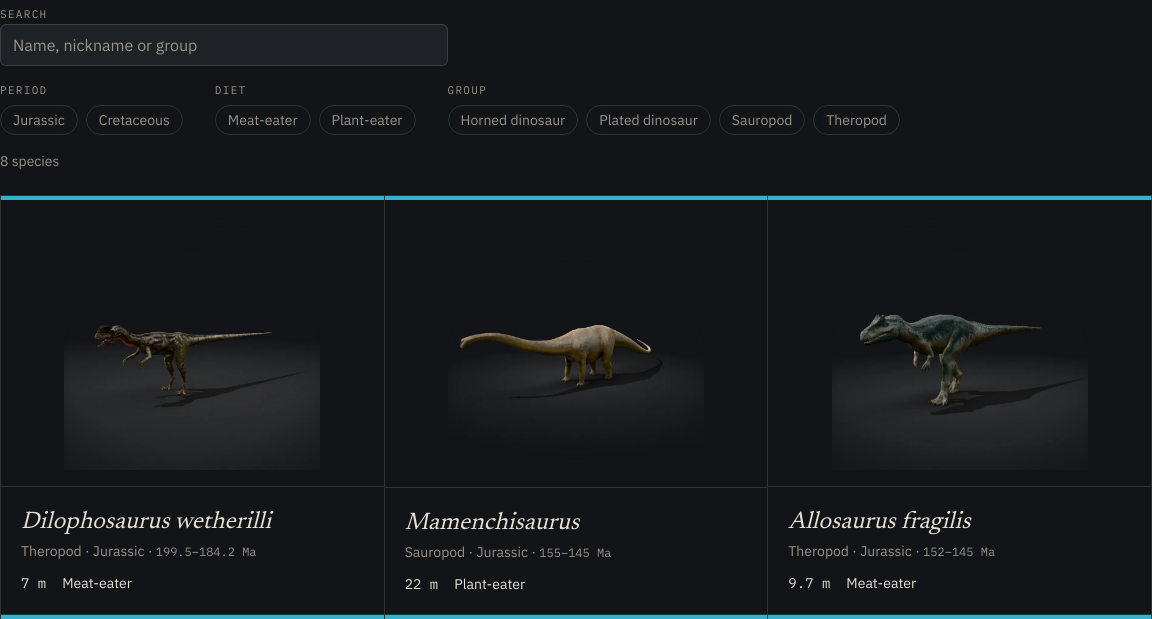
Test: SpeciesBrowser › searches names and shows a way out when nothing matches
Type "triceratops" into the search field at coordinates (224, 45), box x1=0 y1=24 x2=448 y2=66
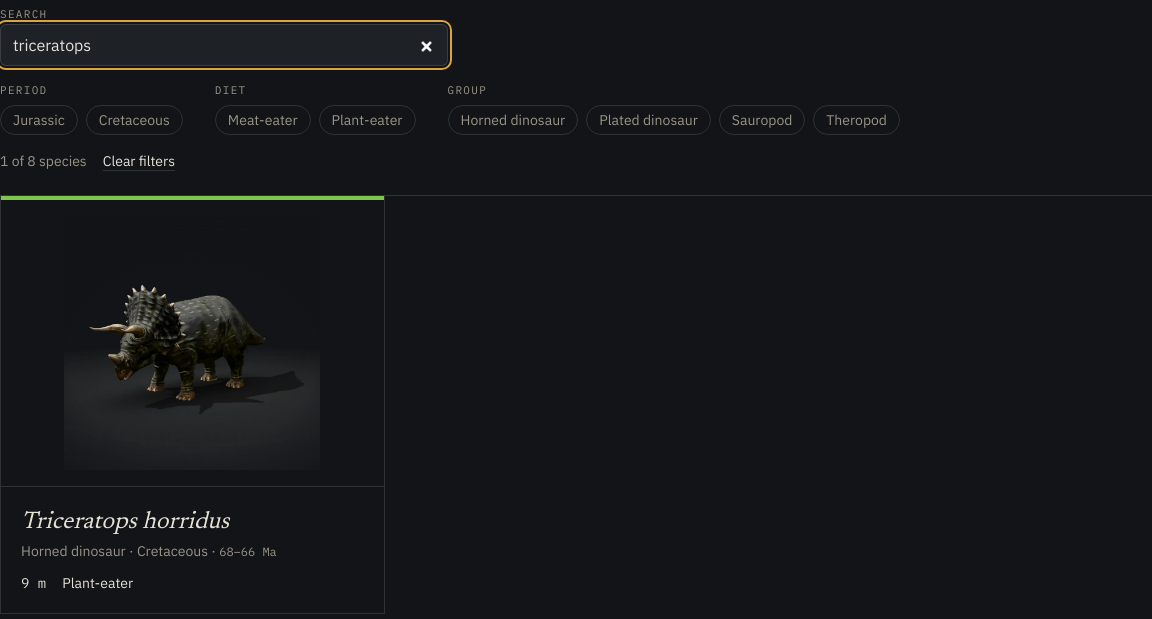
Now the number of links is 1, box x1=1 y1=196 x2=384 y2=614
Replace the text in the search field with "velociraptor" at coordinates (224, 45), box x1=0 y1=24 x2=448 y2=66
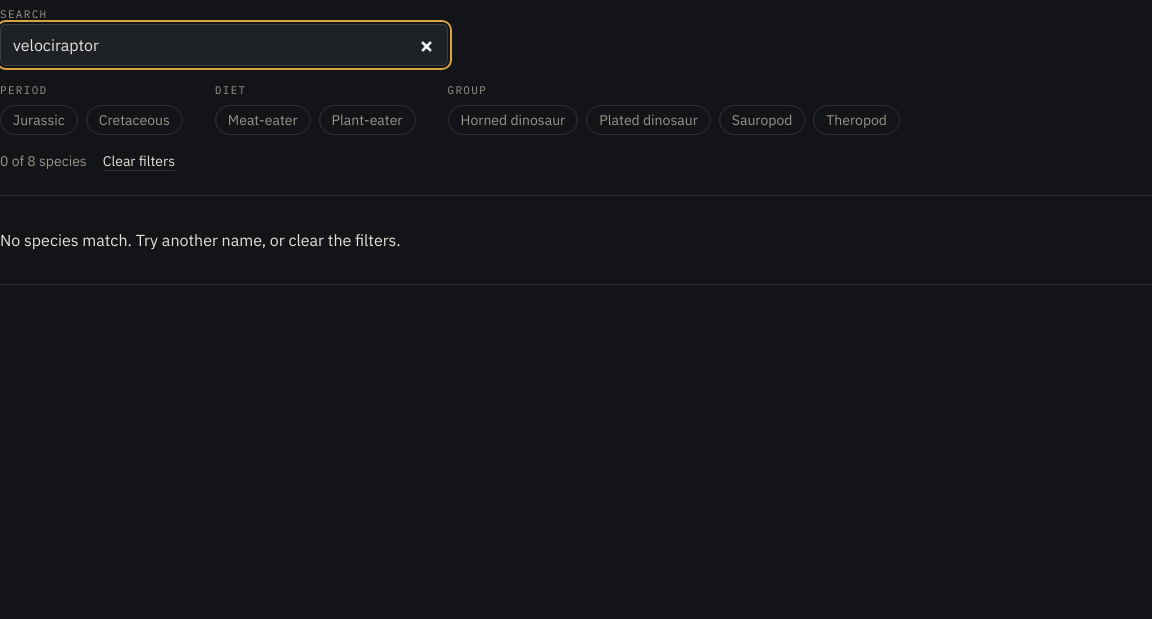
Now the text "No species match. Try another name, or clear the filters." is shown, box x1=0 y1=194 x2=1151 y2=284
Click the button "Clear filters" at coordinates (139, 160), box x1=103 y1=150 x2=175 y2=170
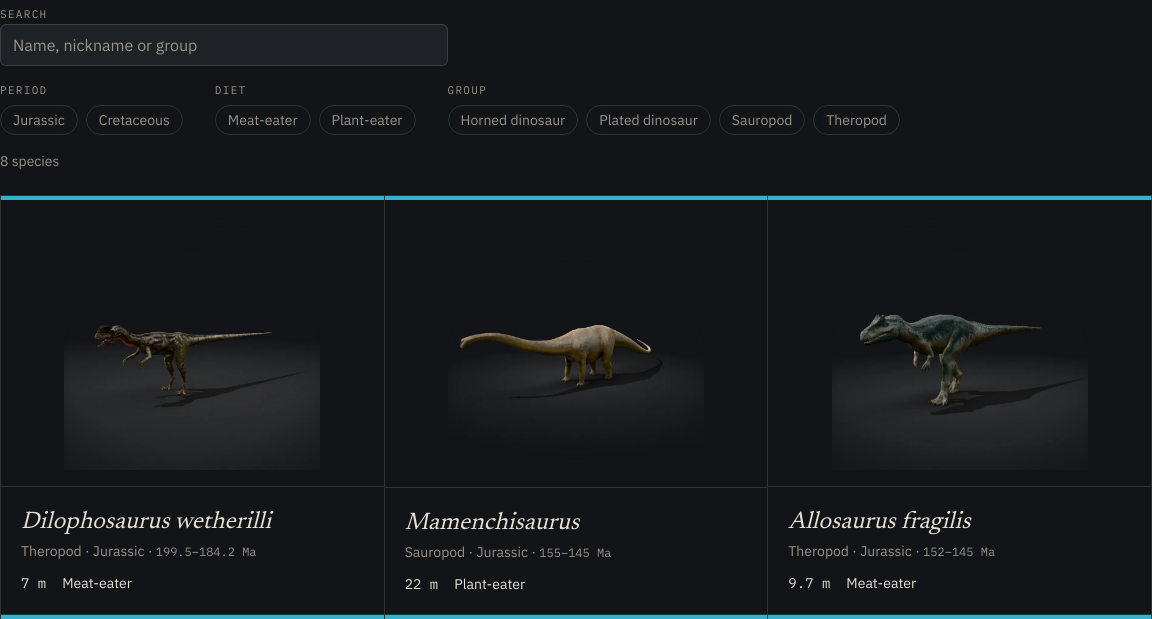
Now the number of links is 8
